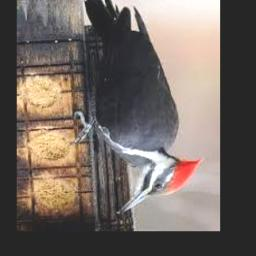Woodpecker: (72, 0, 204, 215)
